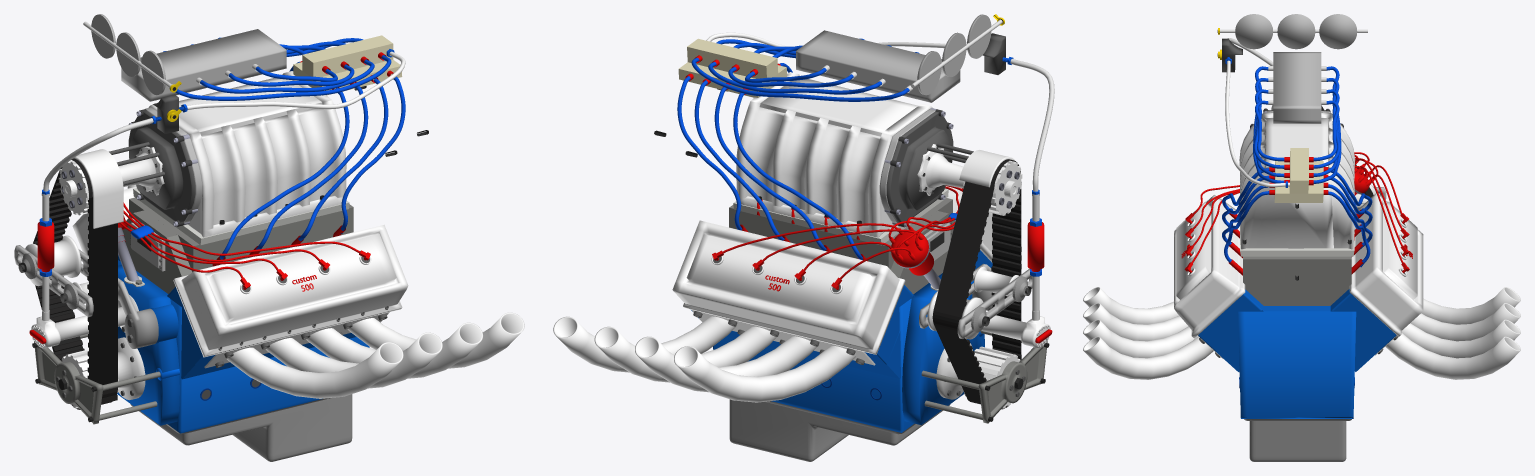
Rendered from engine_open.glb.
3 views of the same model, side by side, from view 1: azimuth 30°, elevation 25°; view 2: azimuth 150°, elevation 25°; view 3: azimuth 270°, elevation 25° (orthographic). The views are drawn at different scales.
Visible parts, largest first — view 1: ensemble_moteur, bloc_moteur, collecteurs_echappement, cables_allumage, reservoir, arbre_a_cames, durites; view 2: ensemble_moteur, bloc_moteur, collecteurs_echappement, cables_allumage, reservoir, arbre_a_cames, BezierCurve, durites; view 3: ensemble_moteur, bloc_moteur, collecteurs_echappement, cables_allumage, reservoir, durites, BezierCurve.
Part boxes in pixels (left/top/right/bottom): ensemble_moteur: left=14, top=14, right=428, bottom=433; bloc_moteur: left=25, top=71, right=408, bottom=408; collecteurs_echappement: left=127, top=185, right=524, bottom=398; cables_allumage: left=163, top=37, right=405, bottom=259; reservoir: left=130, top=394, right=352, bottom=461; arbre_a_cames: left=83, top=14, right=171, bottom=95; durites: left=119, top=202, right=360, bottom=278; ensemble_moteur: left=654, top=14, right=1054, bottom=432; bloc_moteur: left=672, top=72, right=1050, bottom=408; collecteurs_echappement: left=553, top=186, right=947, bottom=402; cables_allumage: left=677, top=32, right=967, bottom=259; reservoir: left=729, top=399, right=950, bottom=461; arbre_a_cames: left=911, top=15, right=1002, bottom=95; BezierCurve: left=722, top=223, right=917, bottom=279; durites: left=888, top=185, right=963, bottom=256; ensemble_moteur: left=1184, top=14, right=1409, bottom=418; bloc_moteur: left=1174, top=105, right=1423, bottom=338; collecteurs_echappement: left=1083, top=287, right=1520, bottom=379; cables_allumage: left=1222, top=60, right=1372, bottom=267; reservoir: left=1244, top=419, right=1351, bottom=461; durites: left=1191, top=152, right=1378, bottom=263; BezierCurve: left=1357, top=158, right=1402, bottom=262.
Size of the model in its own units: 8.49 by 9.73 by 10.5.
